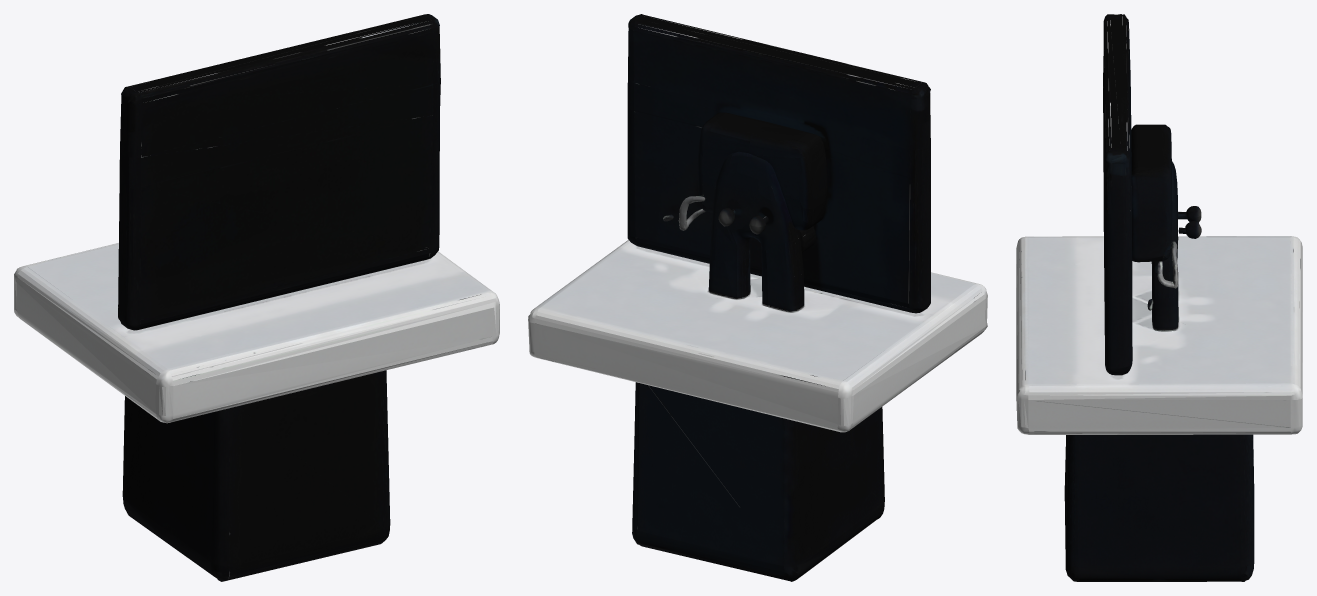
The model's file is research-console.glb.
3 renders of one model, left to right at view 1: azimuth 30°, elevation 25°; view 2: azimuth 150°, elevation 25°; view 3: azimuth 270°, elevation 25°, orthographic. The views are drawn at different scales.
Size of the model in its own units: 0.7246 by 1 by 0.5605.
1 material, 1 textured.
